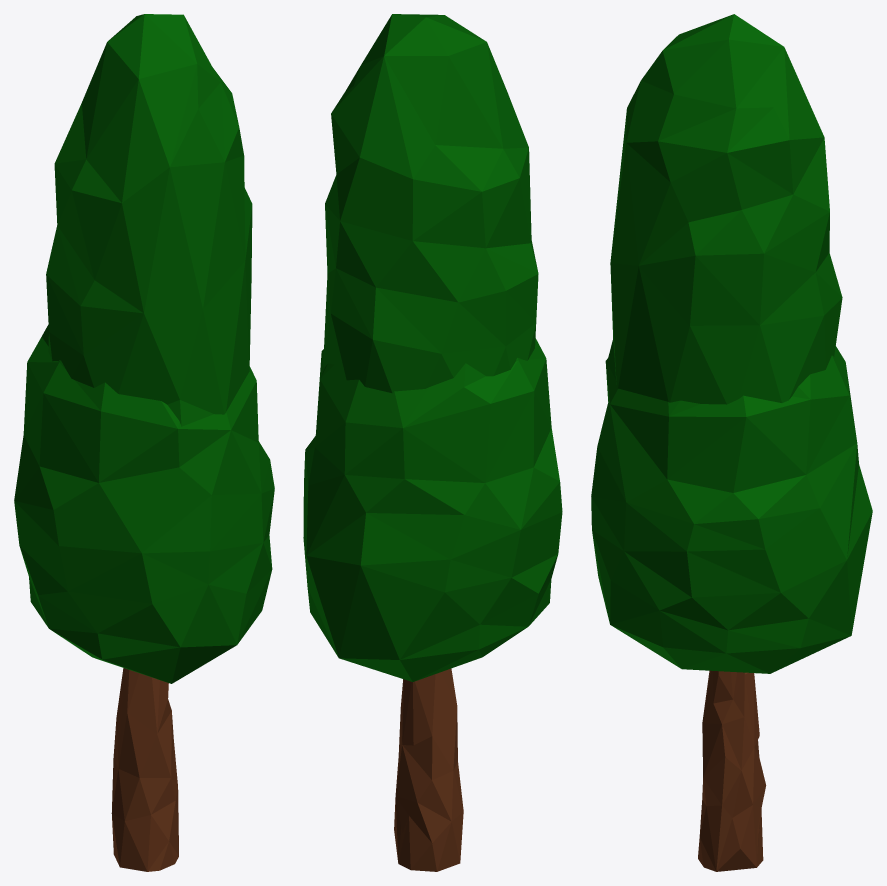
Rendered from poplar.fbx.
3 views of the same model, side by side, from view 1: azimuth 30°, elevation 25°; view 2: azimuth 150°, elevation 25°; view 3: azimuth 270°, elevation 25° (orthographic).
Parts seen in each view (by area): view 1: Poplar trunk, Poplar trunk.001; view 2: Poplar trunk, Poplar trunk.001; view 3: Poplar trunk, Poplar trunk.001.
Part boxes in pixels (bbox=[...]): Poplar trunk: bbox=[14, 14, 274, 683]; Poplar trunk.001: bbox=[111, 668, 178, 871]; Poplar trunk: bbox=[303, 14, 562, 681]; Poplar trunk.001: bbox=[394, 668, 463, 871]; Poplar trunk: bbox=[591, 14, 872, 673]; Poplar trunk.001: bbox=[698, 670, 766, 871].
Bounding box in the file's own units: 126 × 419 × 115.
